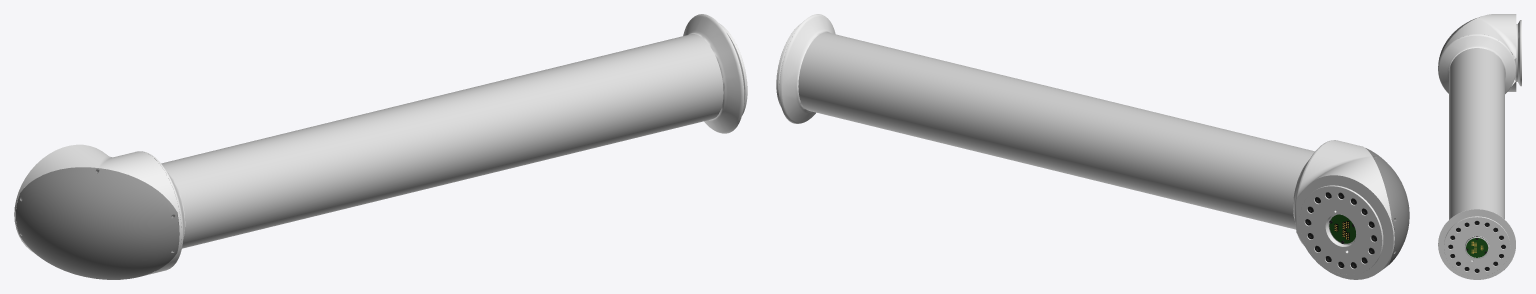
3 renders of one model, left to right at view 1: azimuth 30°, elevation 25°; view 2: azimuth 150°, elevation 25°; view 3: azimuth 270°, elevation 25°, orthographic. The views are drawn at different scales.
Parts seen in each view (by area): view 1: L148.001; view 2: L148.001; view 3: L148.001.
Part boxes in pixels (x1,y1,x2,y2): L148.001: (14,14,747,279); L148.001: (776,14,1409,279); L148.001: (1438,14,1521,279).
Size of the model in its own units: 0.9486 by 0.148 by 0.1589.
